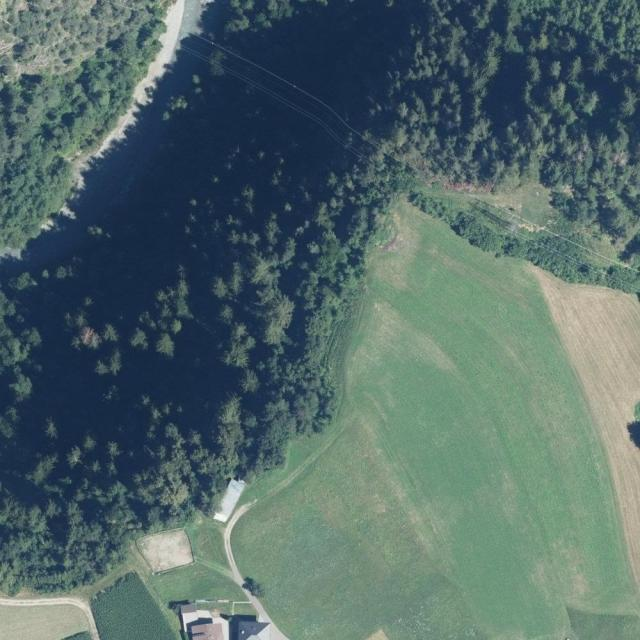agricultural_land: (528, 236, 640, 587)
building: (238, 619, 270, 640)
dryland: (136, 523, 196, 576)
greenland: (0, 265, 206, 589), (190, 52, 329, 485), (402, 144, 640, 307), (71, 135, 232, 366), (191, 28, 387, 166), (298, 143, 420, 295), (172, 288, 241, 453), (144, 516, 234, 610), (180, 72, 210, 122), (183, 189, 202, 253), (188, 142, 198, 170), (181, 261, 193, 273), (188, 127, 195, 139)
unmetalled_road: (216, 499, 254, 587)
